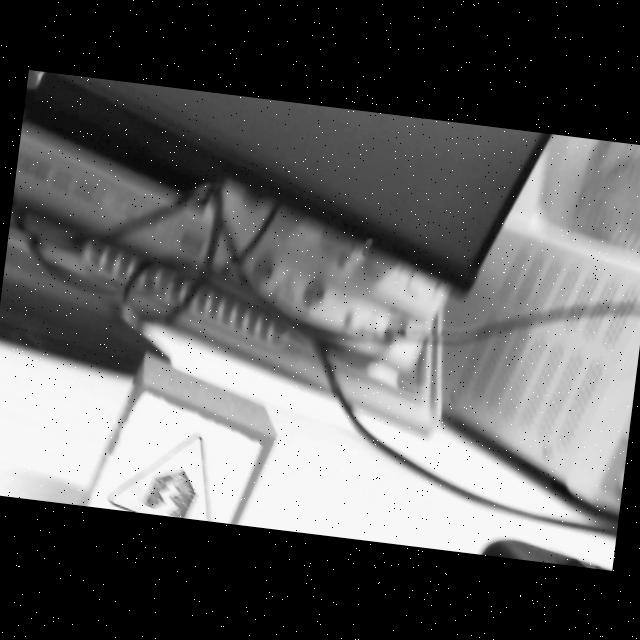Earthquake: (106, 434, 211, 521)
